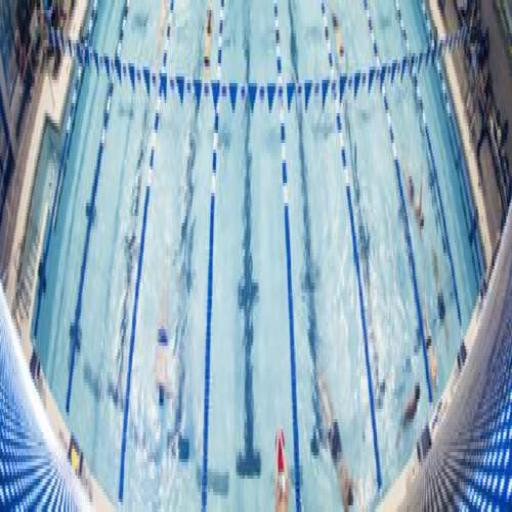swimming: (312, 366, 360, 508), (393, 372, 422, 456), (270, 419, 292, 509), (404, 163, 427, 243)
